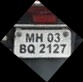character: (25, 32, 34, 42), (27, 43, 35, 53), (19, 43, 26, 54), (38, 43, 45, 54), (52, 43, 59, 54), (35, 33, 43, 42), (46, 32, 53, 42), (59, 43, 66, 53), (54, 32, 60, 42), (46, 43, 52, 53)
